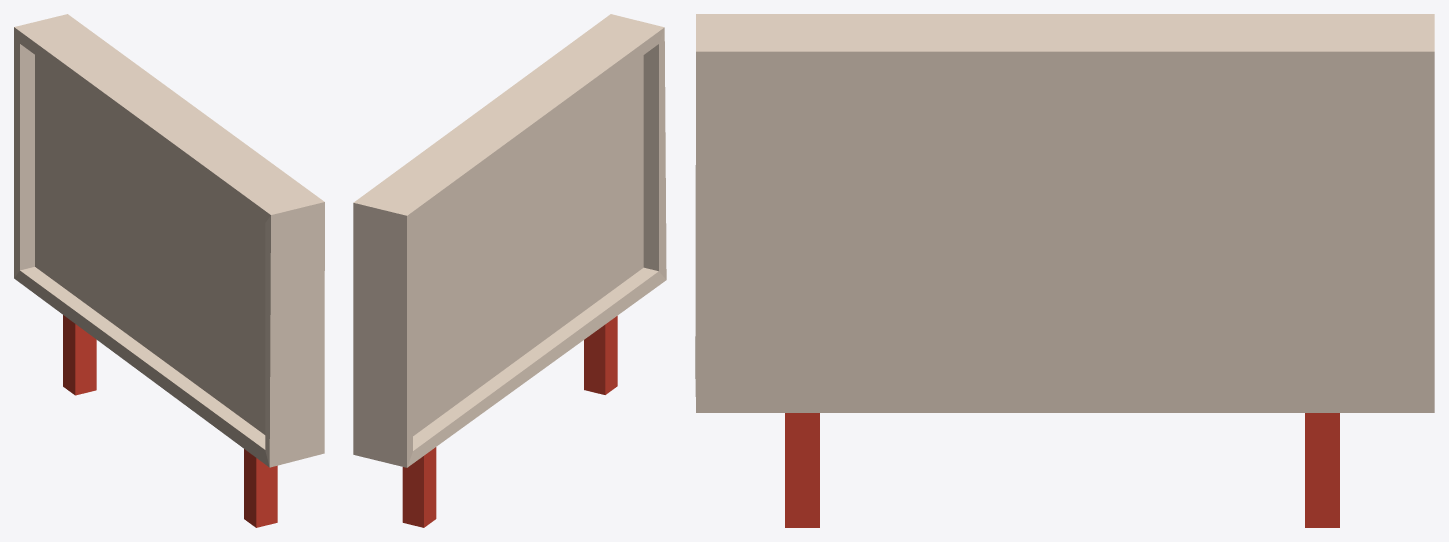
Rendered from sign.glb.
3 renders of one model, left to right at view 1: azimuth 30°, elevation 25°; view 2: azimuth 150°, elevation 25°; view 3: azimuth 270°, elevation 25°, orthographic. The views are drawn at different scales.
Visible parts, largest first — view 1: Cube.002, Cube.001, Cube; view 2: Cube.002, Cube.001, Cube; view 3: Cube.002, Cube, Cube.001.
Part boxes in pixels (x1=…): Cube.002: x1=14, y1=14, x2=324, y2=467; Cube.001: x1=63, y1=315, x2=96, y2=395; Cube: x1=244, y1=449, x2=277, y2=527; Cube.002: x1=353, y1=14, x2=666, y2=467; Cube.001: x1=402, y1=447, x2=436, y2=527; Cube: x1=584, y1=316, x2=617, y2=394; Cube.002: x1=695, y1=14, x2=1434, y2=412; Cube: x1=785, y1=413, x2=819, y2=527; Cube.001: x1=1305, y1=413, x2=1339, y2=527.
Size of the model in its own units: 0.8726 by 5.11 by 7.01.
